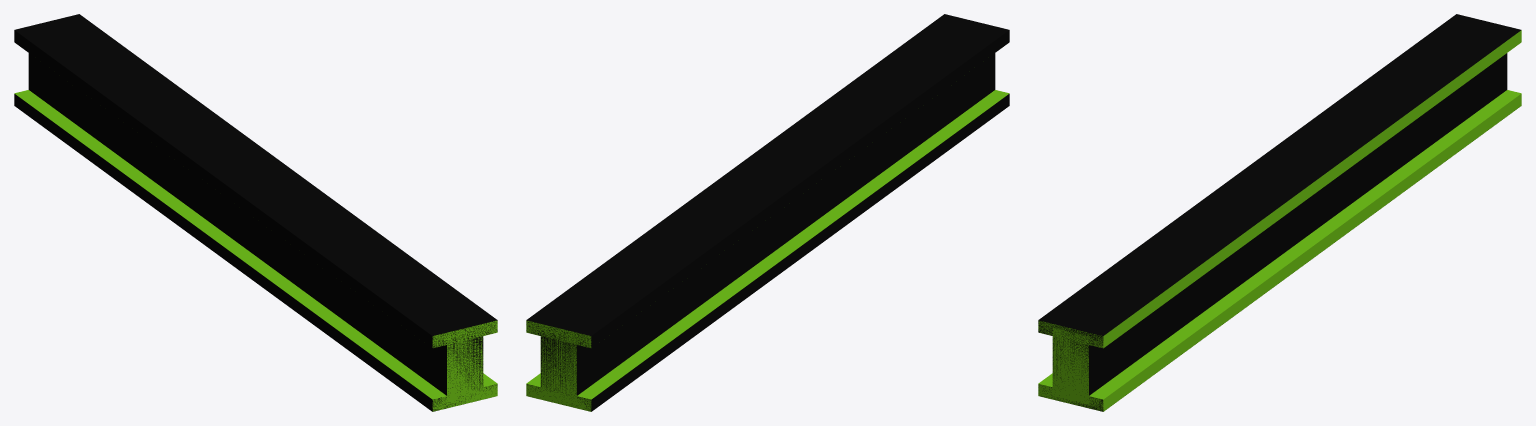
The model's file is MetalBeam_Collider_Compound.glb.
The picture shows the model from 3 angles, left to right: view 1: azimuth 30°, elevation 25°; view 2: azimuth 150°, elevation 25°; view 3: azimuth 330°, elevation 25°; orthographic projection.
Visible parts, largest first — view 1: MetalBeam_Collider_Compound_2023_06_26_v02.1, MetalBeam_Collider_Box03.001, MetalBeam_Collider_Box01.001, MetalBeam_Collider_Box02.001; view 2: MetalBeam_Collider_Compound_2023_06_26_v02.1, MetalBeam_Collider_Box03.001, MetalBeam_Collider_Box01.001, MetalBeam_Collider_Box02.001; view 3: MetalBeam_Collider_Compound_2023_06_26_v02.1, MetalBeam_Collider_Box03.001, MetalBeam_Collider_Box02.001, MetalBeam_Collider_Box01.001.
Part boxes in pixels (box(x1,y1,x2,y2)): MetalBeam_Collider_Compound_2023_06_26_v02.1: box(14, 14, 497, 411); MetalBeam_Collider_Box03.001: box(14, 90, 497, 411); MetalBeam_Collider_Box01.001: box(447, 328, 483, 404); MetalBeam_Collider_Box02.001: box(432, 320, 497, 347); MetalBeam_Collider_Compound_2023_06_26_v02.1: box(526, 14, 1009, 411); MetalBeam_Collider_Box03.001: box(526, 90, 1009, 411); MetalBeam_Collider_Box01.001: box(540, 327, 576, 404); MetalBeam_Collider_Box02.001: box(526, 320, 591, 347); MetalBeam_Collider_Compound_2023_06_26_v02.1: box(1038, 14, 1520, 411); MetalBeam_Collider_Box03.001: box(1038, 90, 1521, 411); MetalBeam_Collider_Box02.001: box(1038, 30, 1521, 348); MetalBeam_Collider_Box01.001: box(1052, 327, 1088, 404).
Size of the model in its own units: 0.9 by 1 by 10.
Materials: 1 (1 with a texture image).
